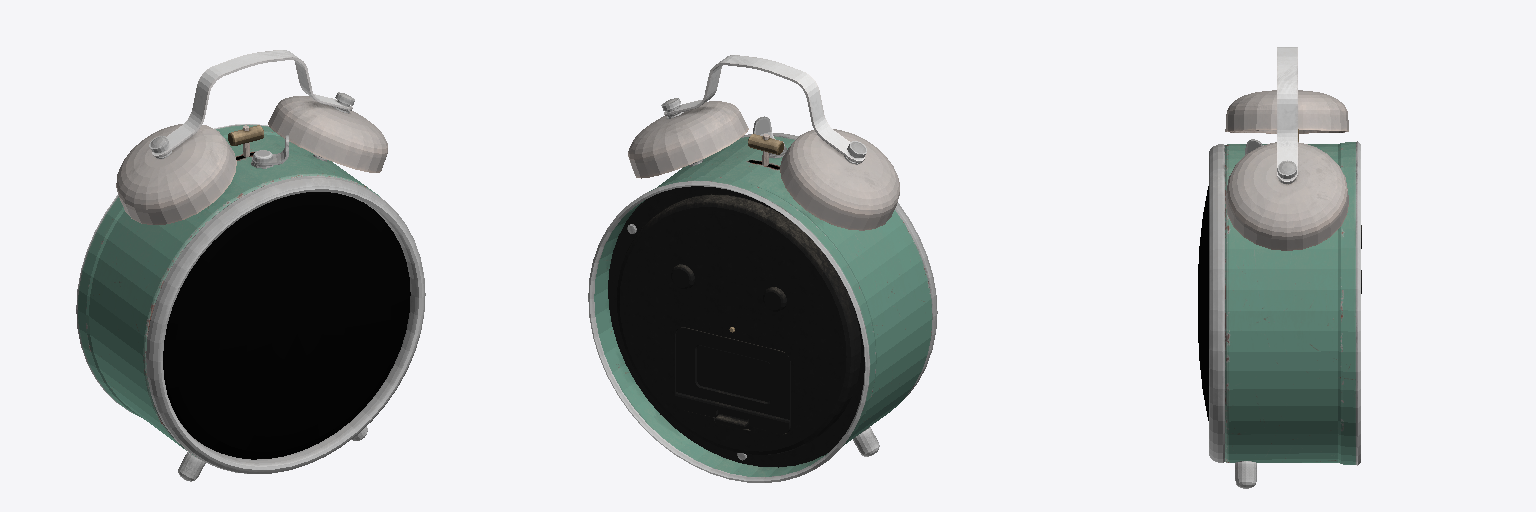
3 views of the same model, side by side, from view 1: azimuth 30°, elevation 25°; view 2: azimuth 150°, elevation 25°; view 3: azimuth 270°, elevation 25° (orthographic).
Visible parts, largest first — view 1: alarm_clock_01, alarm_clock_01_glass; view 2: alarm_clock_01; view 3: alarm_clock_01, alarm_clock_01_glass.
Part boxes in pixels (x1,y1,x2,y2): alarm_clock_01: (76, 50, 425, 481); alarm_clock_01_glass: (163, 192, 410, 459); alarm_clock_01: (588, 55, 937, 482); alarm_clock_01: (1209, 47, 1361, 488); alarm_clock_01_glass: (1198, 186, 1208, 420).
Bounding box in the file's own units: 0.1317 × 0.1742 × 0.0667.
Materials: 2 (1 with a texture image).